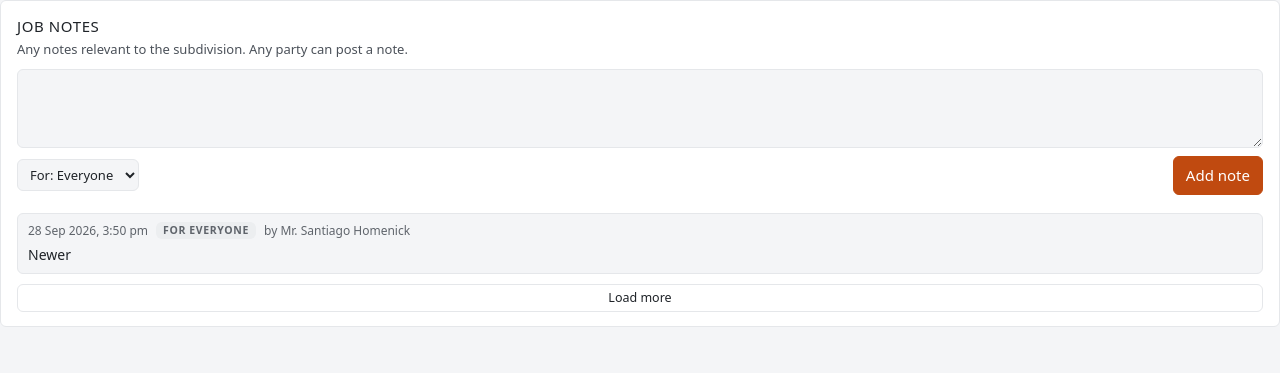
JobNotes › loads the next page on request, 50 at a time
expect the text "Newer" is shown: met, box [28,244,71,264]
What coordinates should you click on to do the following:
click the button "Load more"
I would click on:
 (640, 298)
Its box is [17,284,1263,312].
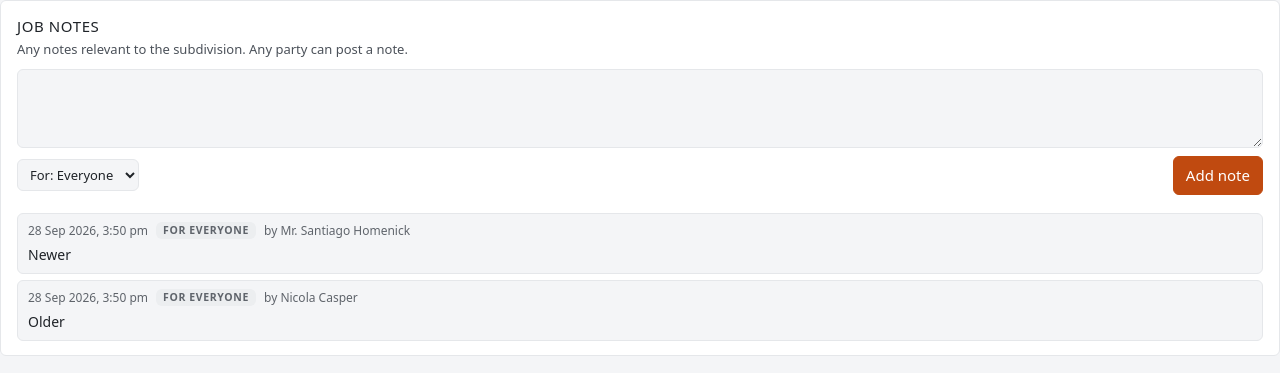
expect the text "Older" is shown: met, box [28,312,65,330]
expect the button "Load more" is gone: met
